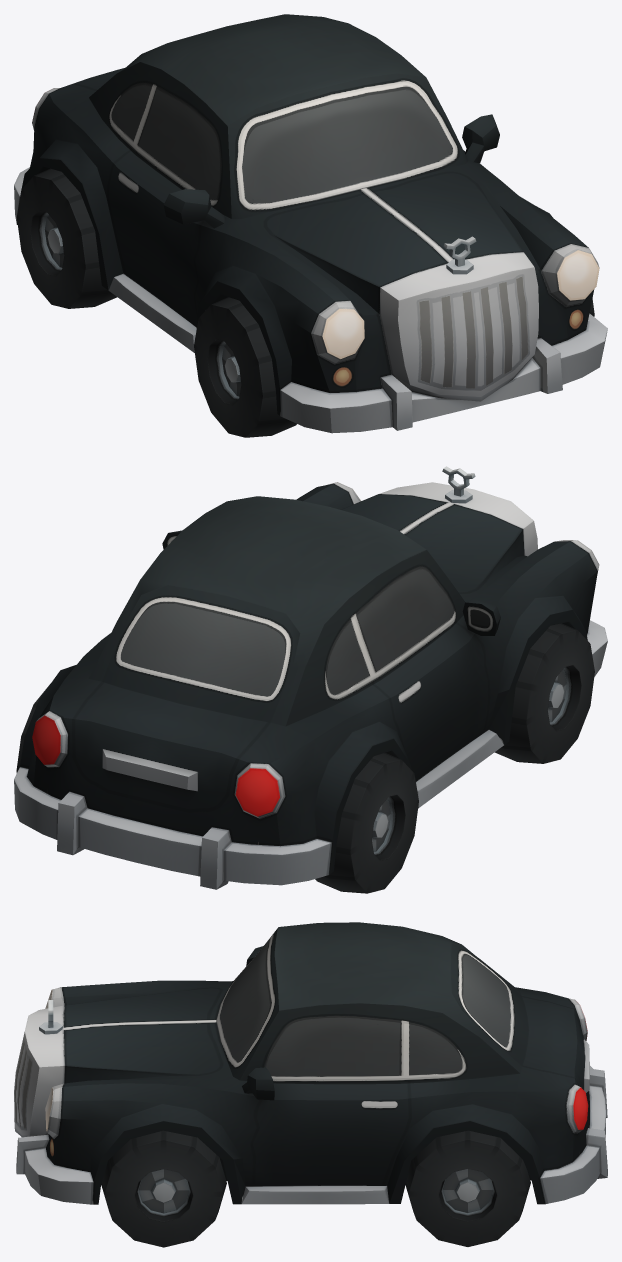
The model's file is car1 (7).fbx.
3 views of the same model, one above another, from view 1: azimuth 30°, elevation 25°; view 2: azimuth 150°, elevation 25°; view 3: azimuth 270°, elevation 25° (orthographic). The views are drawn at different scales.
Parts seen in each view (by area): view 1: black, tyre.002, tyre.003; view 2: black, tyre.003, tyre.002; view 3: black, tyre, tyre.001.
Boxes of the visible parts, x1,y1,x2,y2 form: black: (14, 14, 607, 433); tyre.002: (16, 168, 117, 308); tyre.003: (194, 297, 296, 437); black: (14, 466, 607, 889); tyre.003: (494, 623, 594, 763); tyre.002: (315, 753, 418, 893); black: (14, 922, 607, 1204); tyre: (101, 1130, 226, 1247); tyre.001: (405, 1130, 530, 1246).
Size of the model in its own units: 20.38 by 15.29 by 35.61.
1 material, 1 textured.
